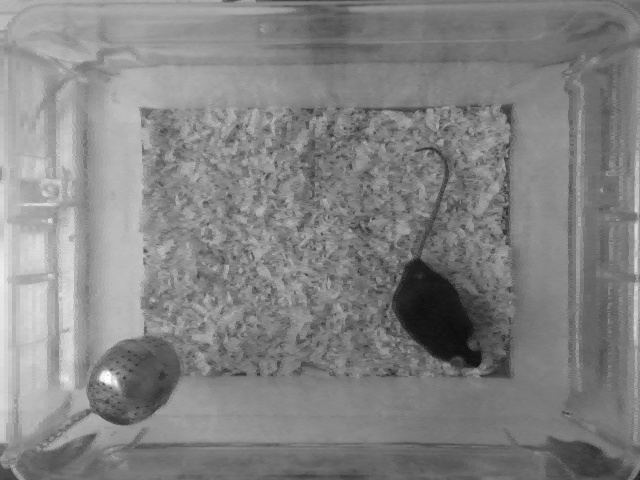mice: (393, 139, 483, 370)
